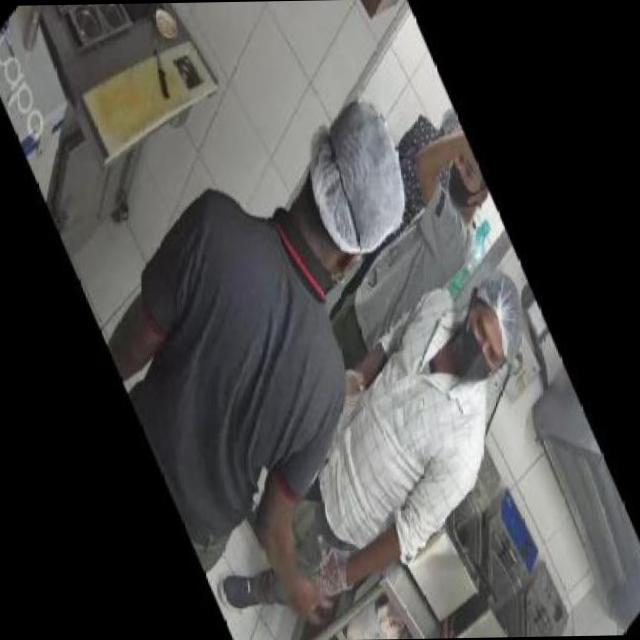hairnet: (322, 103, 401, 246), (474, 270, 528, 364)
